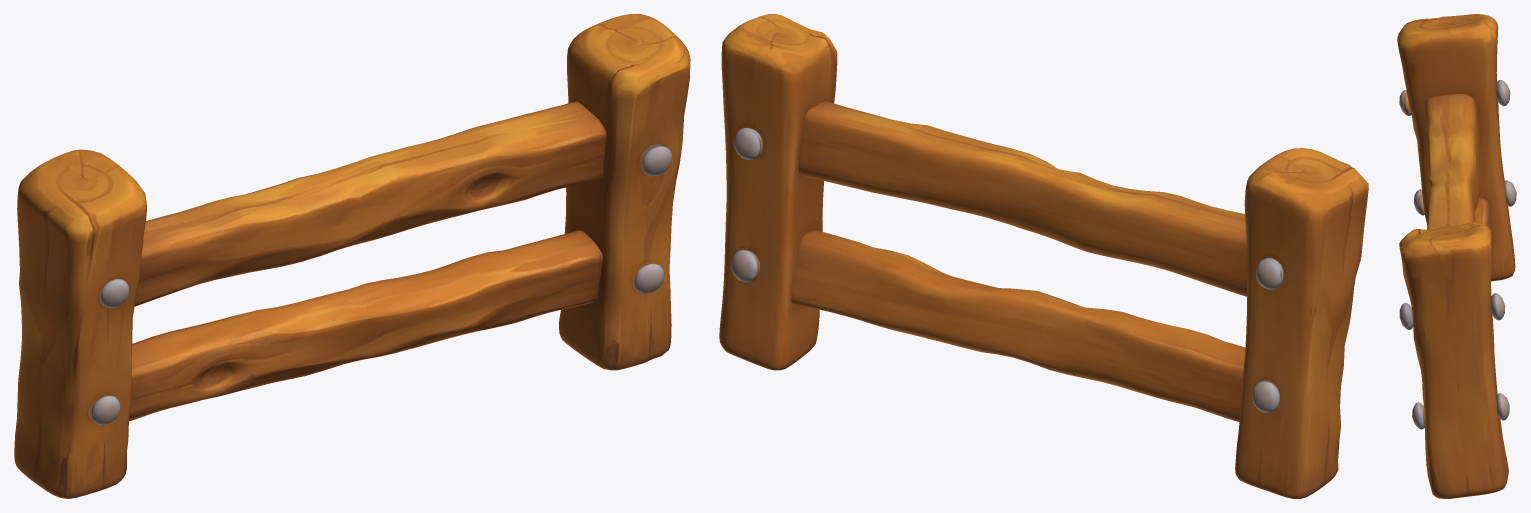
Rendered from fence.glb.
3 views of the same model, side by side, from view 1: azimuth 30°, elevation 25°; view 2: azimuth 150°, elevation 25°; view 3: azimuth 270°, elevation 25° (orthographic). The views are drawn at different scales.
Parts seen in each view (by area): view 1: tripo_node_de03e2d1-4e73-4a72-af0c-c152a297f888; view 2: tripo_node_de03e2d1-4e73-4a72-af0c-c152a297f888; view 3: tripo_node_de03e2d1-4e73-4a72-af0c-c152a297f888.
Boxes of the visible parts, x1,y1,x2,y2 form: tripo_node_de03e2d1-4e73-4a72-af0c-c152a297f888: (14, 14, 690, 498); tripo_node_de03e2d1-4e73-4a72-af0c-c152a297f888: (719, 14, 1368, 498); tripo_node_de03e2d1-4e73-4a72-af0c-c152a297f888: (1397, 14, 1516, 498).
Bounding box in the file's own units: 0.9995 × 0.4965 × 0.2027.
Materials: 1 (1 with a texture image).
